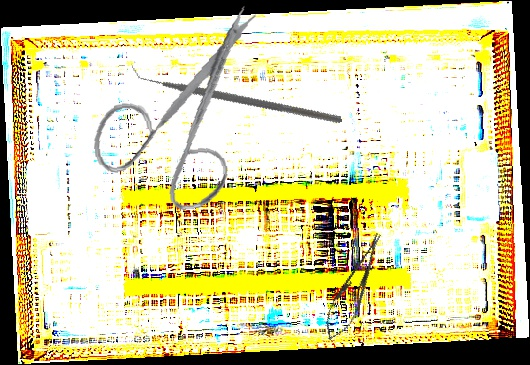Chopper: (130, 1, 343, 183)
Iris Scissors: (79, 2, 280, 220)
Needle Holder: (317, 228, 392, 346)
